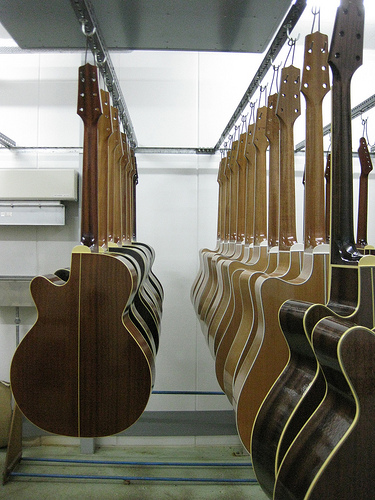guitar: (10, 63, 152, 440)
